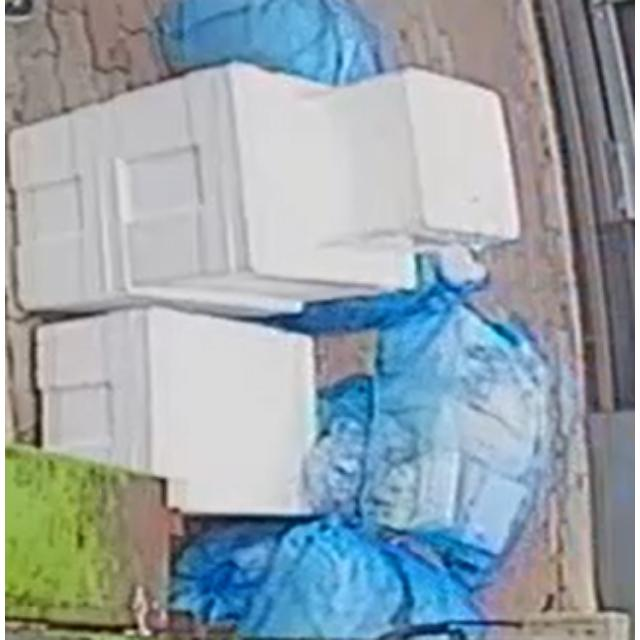other_trashbag: (305, 299, 549, 574), (172, 515, 496, 638), (158, 0, 388, 84)
